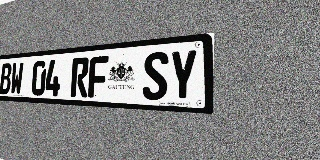0: (31, 60, 47, 96)
4: (45, 59, 61, 96)
B: (0, 63, 12, 95)
F: (88, 56, 109, 98)
R: (70, 57, 89, 97)
S: (142, 51, 169, 101)
W: (10, 62, 24, 95)
Y: (168, 49, 198, 102)
